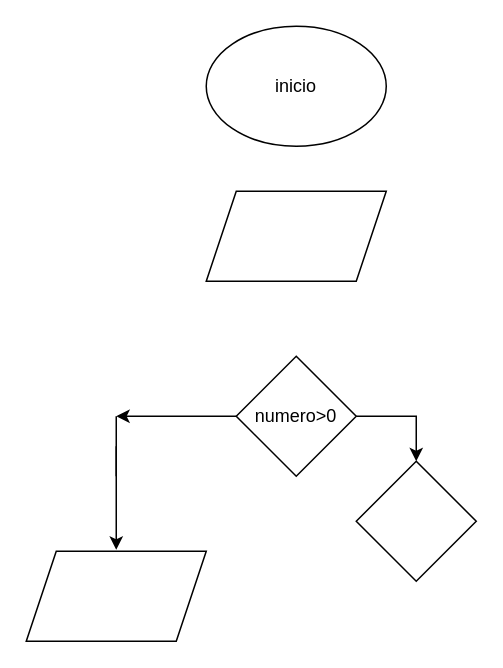
This 503x668 diagram has some shape labels left out. Each missing label, with the centre of its shape:
"ingresar numero" belongs at point (295, 235).
"numero<0" belongs at point (415, 520).
